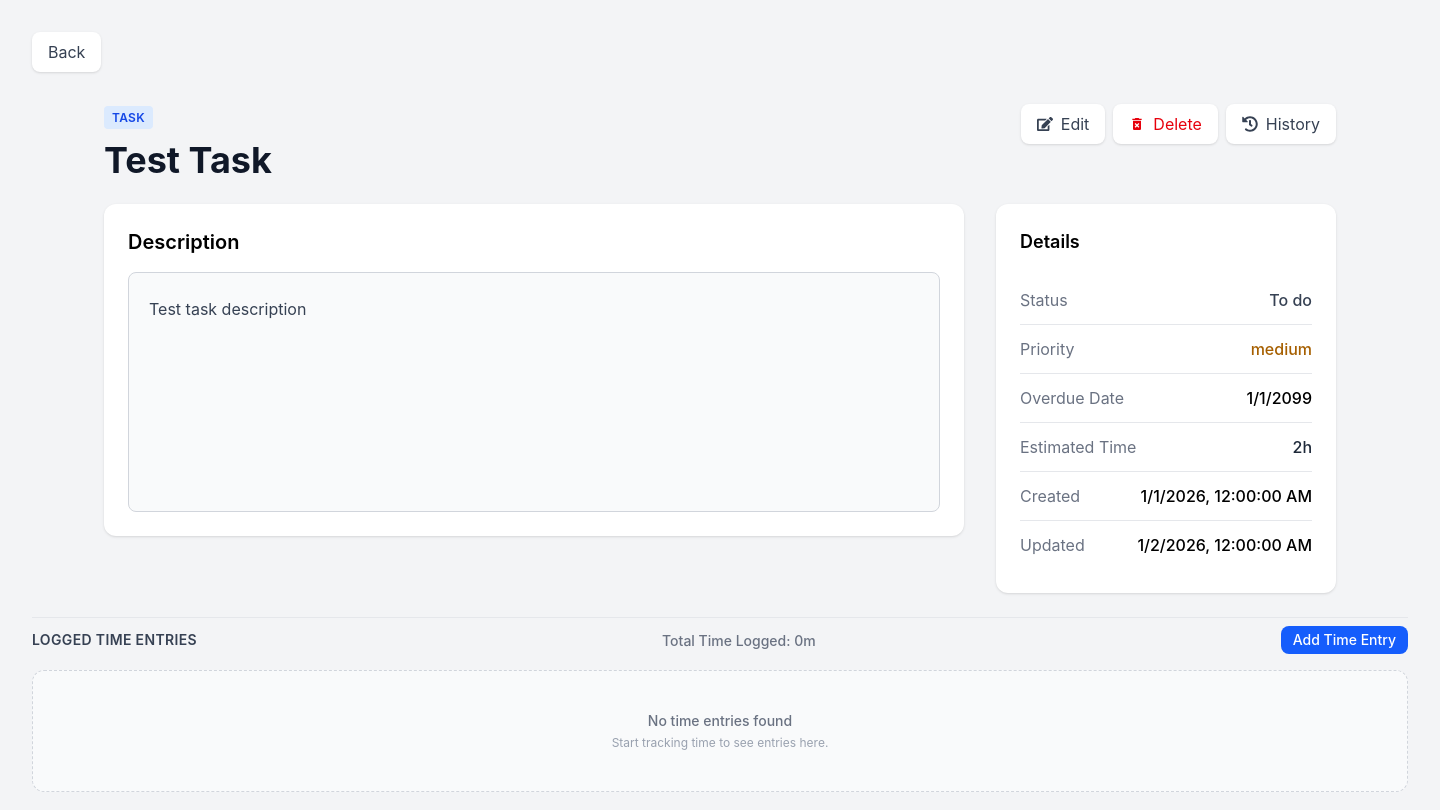
Test: TaskPage › task history › should display task history when clicking History
Check: the heading "Test Task" is shown, box top-left (104, 140), bottom-right (272, 180)
Click the button "History" at {"x": 1281, "y": 124}, box top-left (1226, 104), bottom-right (1336, 144)
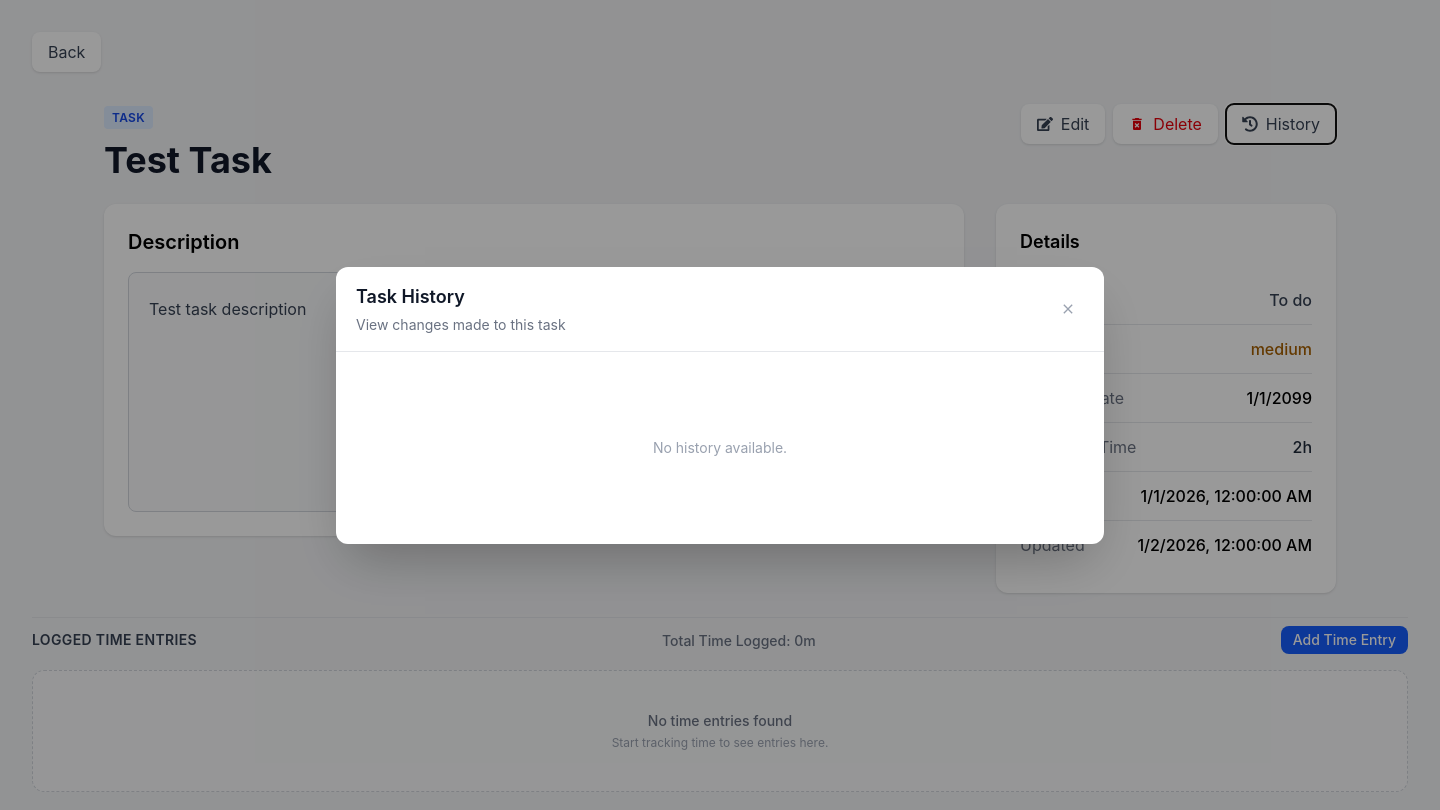
Check: the heading "Task History" is shown, box top-left (356, 286), bottom-right (465, 306)
